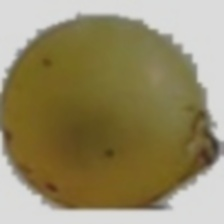grapes: (25, 33, 219, 170)
